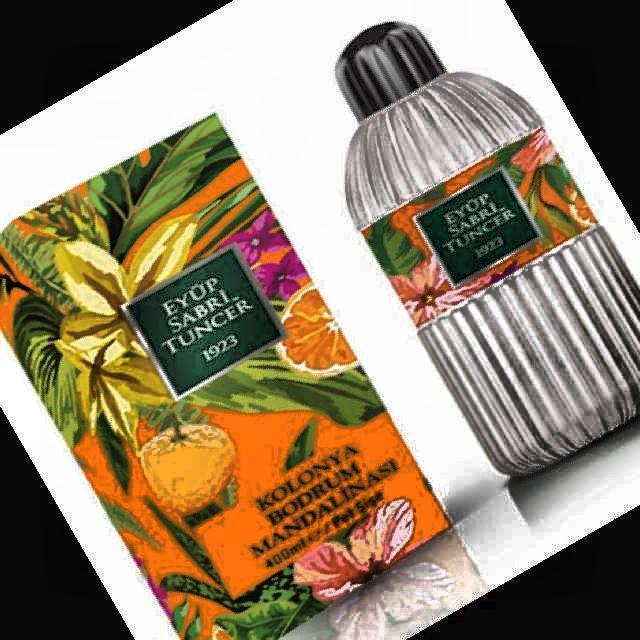cardboard: (0, 115, 450, 640)
plastic: (336, 25, 640, 476)
